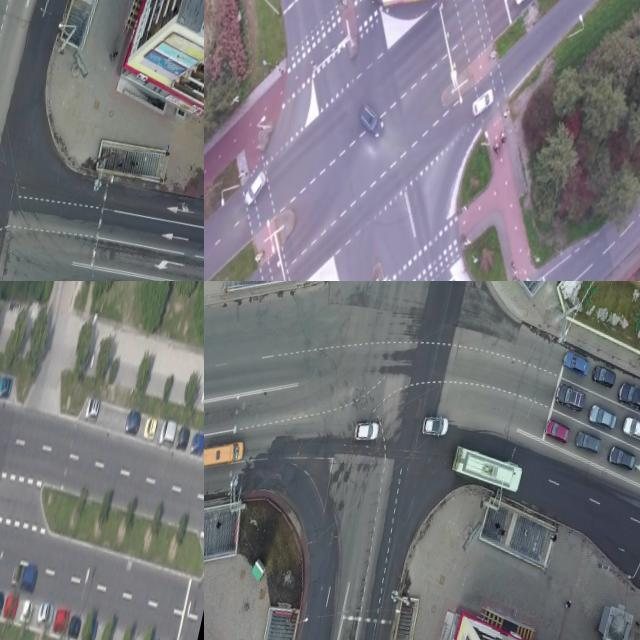UAI: (354, 99, 388, 138), (553, 381, 588, 413), (469, 82, 496, 119), (243, 168, 267, 207), (586, 403, 618, 432), (561, 349, 592, 376), (615, 379, 640, 411), (542, 418, 572, 444), (573, 429, 603, 455), (590, 364, 618, 391), (421, 413, 450, 439), (352, 418, 380, 443), (158, 416, 178, 448), (620, 414, 640, 442), (19, 564, 38, 592), (36, 600, 55, 626), (124, 408, 142, 434), (18, 596, 34, 623), (53, 607, 70, 632), (66, 613, 82, 639), (175, 424, 191, 450), (3, 592, 19, 616), (84, 397, 100, 421), (189, 430, 204, 455), (142, 415, 157, 439), (0, 373, 13, 398), (10, 564, 22, 586), (0, 588, 5, 614)
UAP: (365, 0, 446, 18)
car: (449, 444, 525, 494)
harvester: (204, 432, 246, 474)
